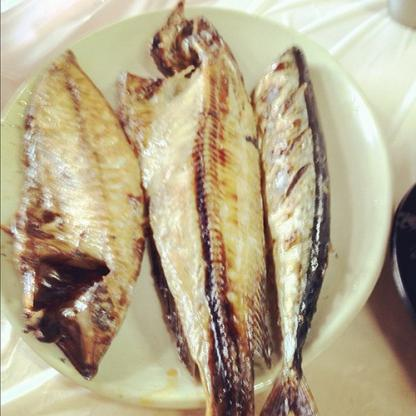Peixe: (16, 0, 327, 416)
